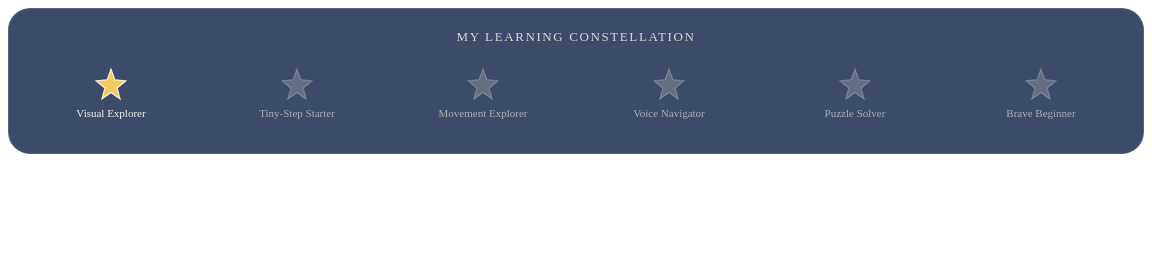
Scenario: WiggleConstellation › shows a description only after a star is selected, and never a percentage
The image size is (1152, 263).
Click the button "Visual Explorer".
click(111, 94)  # box [21,59,201,129]
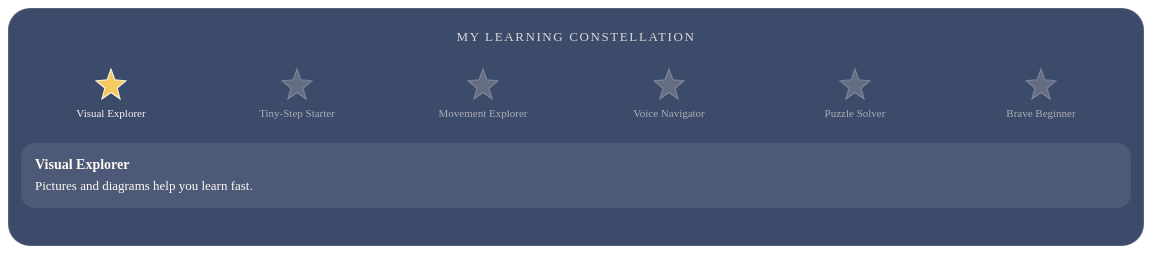
Now the message shows "Pictures", box [35,178,253,193]
